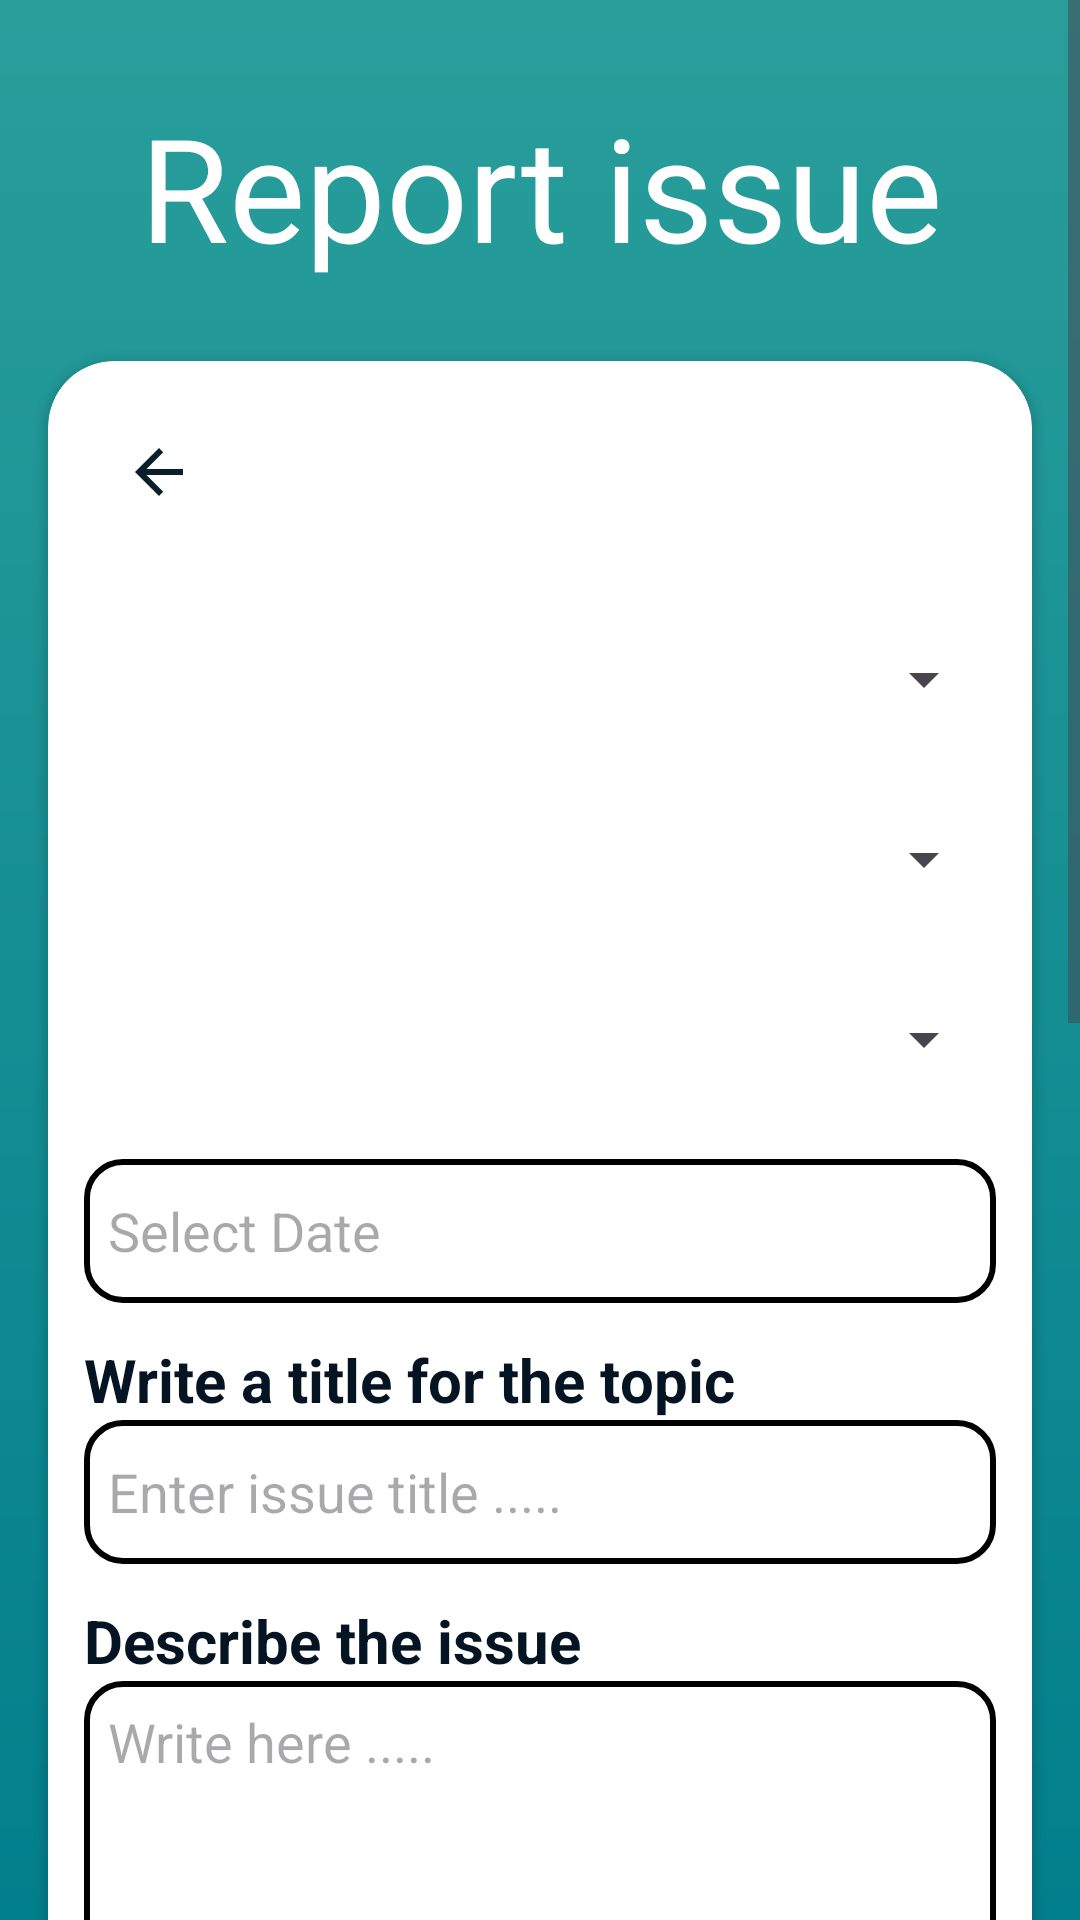

Where icons sit on this 1080px×1920px app screen, as (x1, y1, x2, y2):
arrow back: (135, 448, 183, 496)
